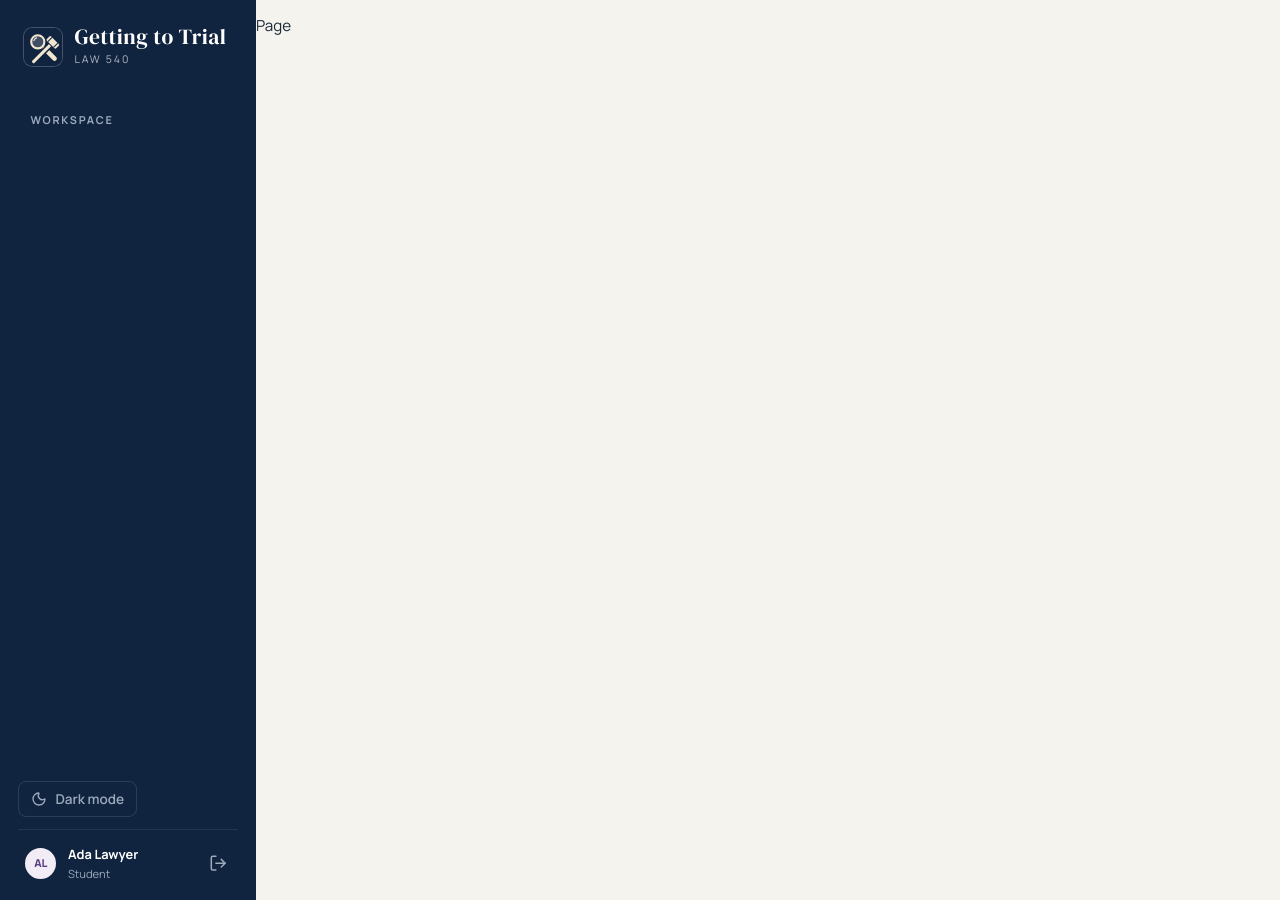
Test case: the account dialog › opens from your name in the sidebar and closes again
The width and height of the screenshot is (1280, 900).
Click the button "AL Ada Lawyer Student": (108, 864) [19,841,198,886]
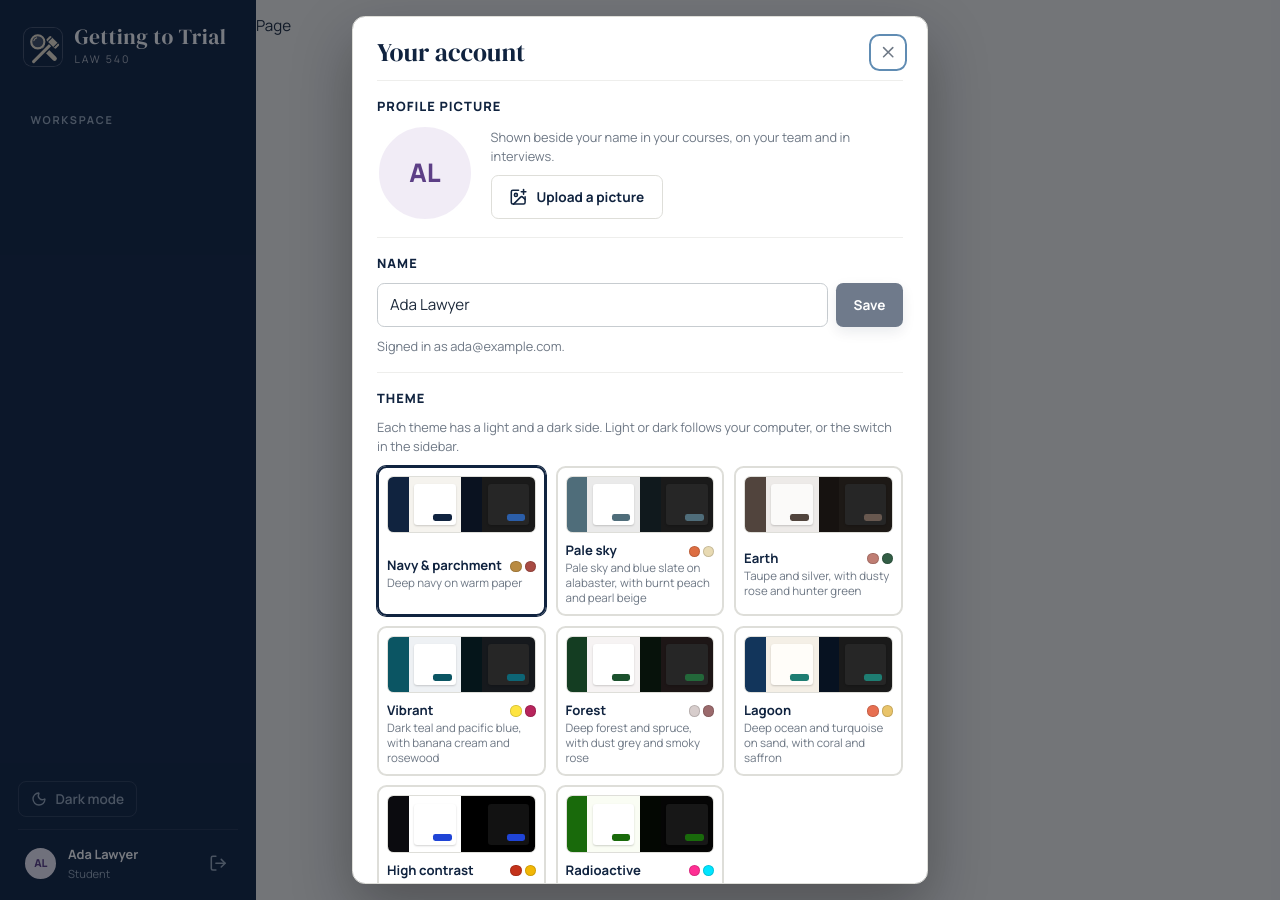
Expected: the field labelled "Name" holds "Ada Lawyer", [377,283,828,327]
Click the button named "Close": (888, 52) [873,38,903,67]
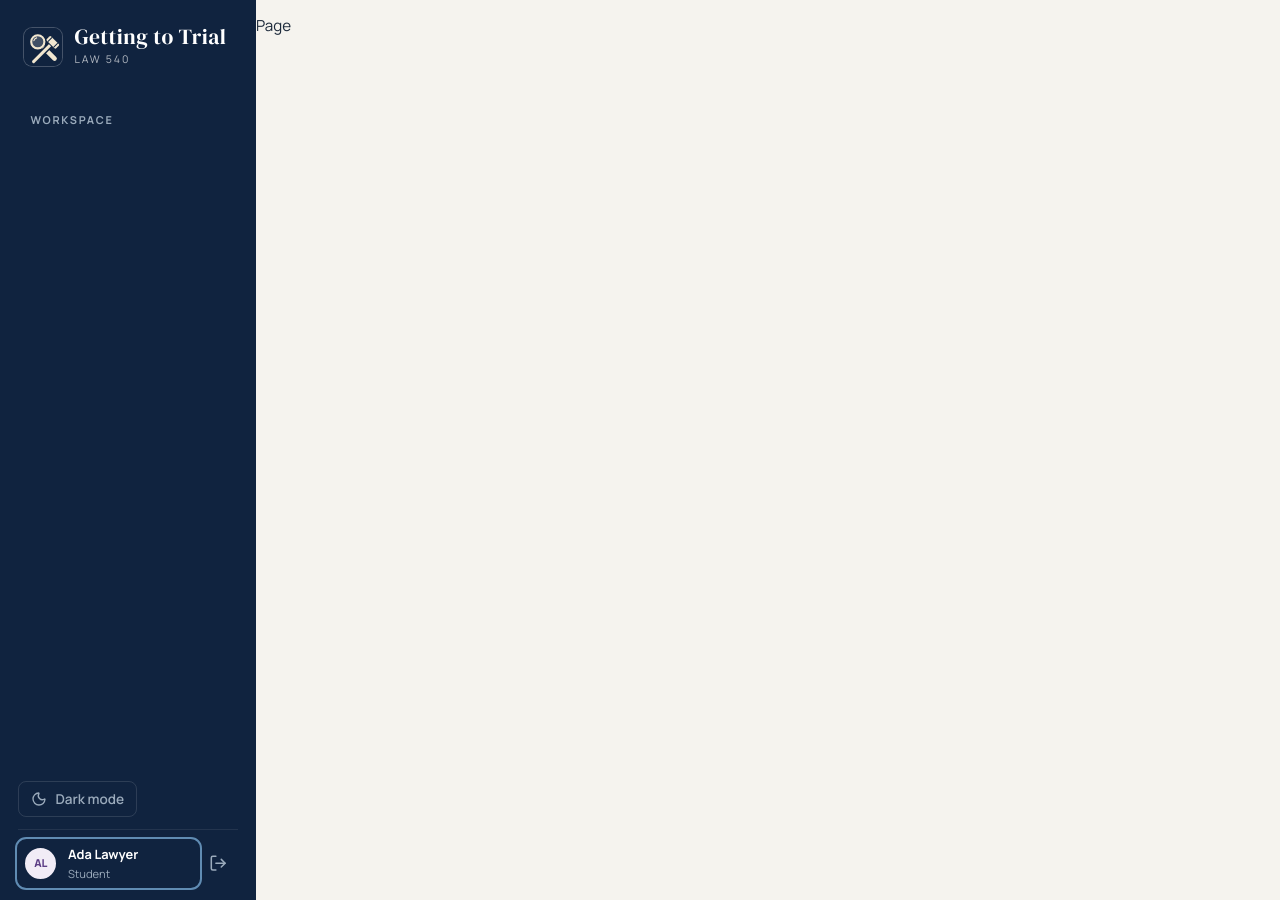
Expected: the dialog is gone
